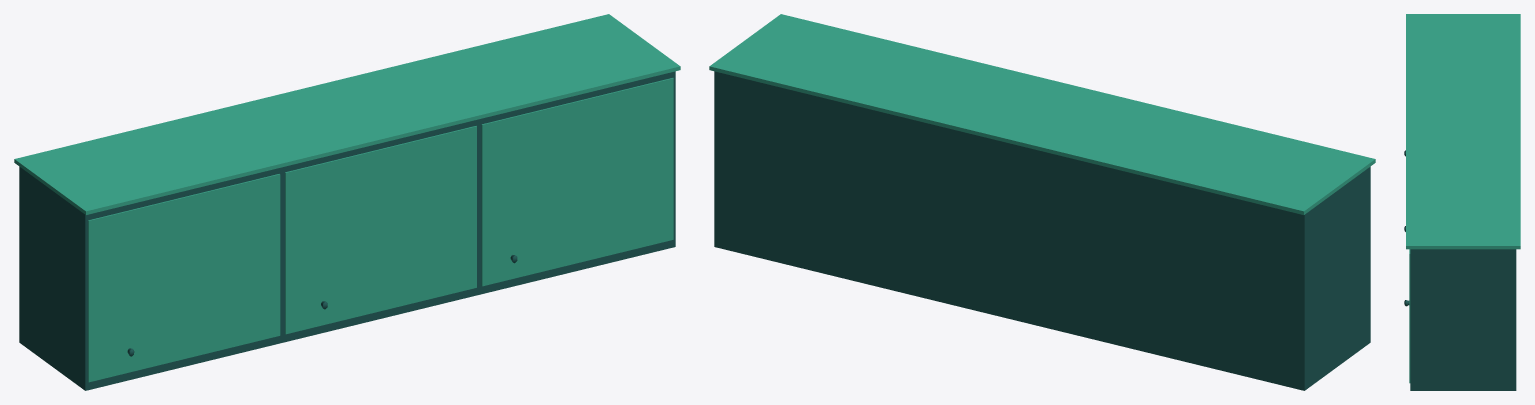
The model's file is Altillo.fbx.
3 views of the same model, side by side, from view 1: azimuth 30°, elevation 25°; view 2: azimuth 150°, elevation 25°; view 3: azimuth 270°, elevation 25° (orthographic). The views are drawn at different scales.
Visible parts, largest first — view 1: Altillo; view 2: Altillo; view 3: Altillo.
Part boxes in pixels (<box>): Altillo: <box>14,14,680,390</box>; Altillo: <box>709,14,1375,390</box>; Altillo: <box>1404,14,1520,390</box>.
Size of the model in its own units: 204 by 59.62 by 43.11.
